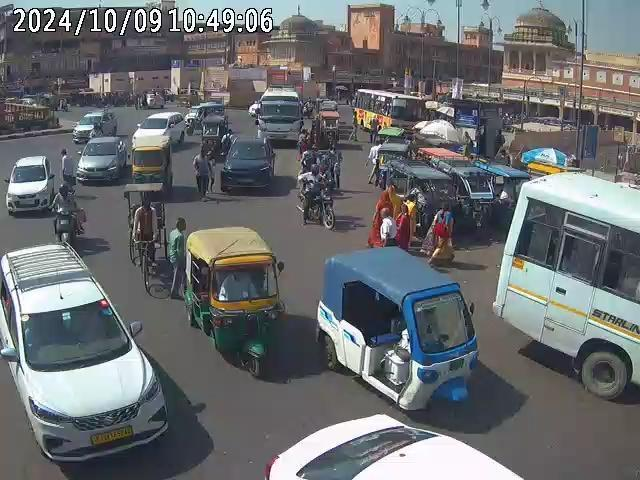auto: (314, 246, 479, 410), (183, 226, 286, 378), (382, 160, 453, 230), (129, 129, 173, 195), (202, 115, 230, 155)
bus: (492, 167, 639, 401), (352, 85, 423, 134), (256, 87, 302, 144)
car: (0, 241, 169, 471), (218, 136, 277, 193), (5, 155, 58, 216), (74, 135, 126, 183), (133, 111, 186, 147)
helmet: (58, 184, 70, 194)
license_plate: (89, 426, 136, 446), (17, 198, 38, 206)
motorbike-rider: (295, 166, 338, 229)
person: (428, 201, 456, 267), (165, 219, 188, 296), (396, 198, 416, 250), (193, 149, 213, 197), (378, 207, 396, 248)
rickshow: (128, 197, 165, 292)
scooty-rider: (50, 180, 86, 247)
